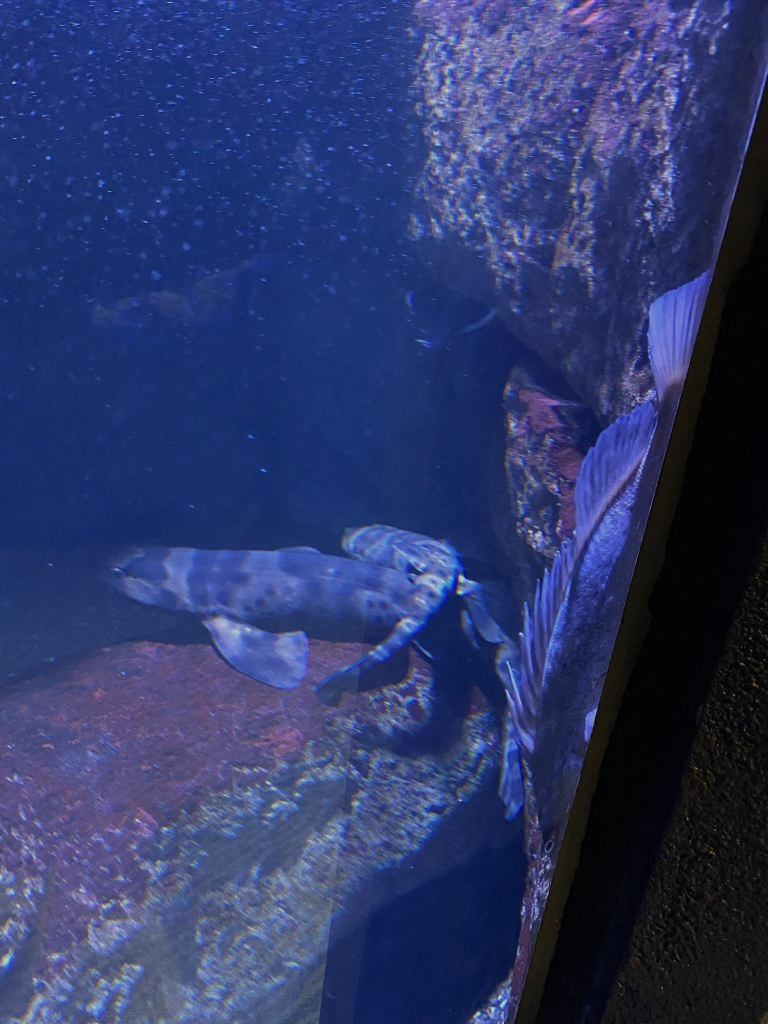fish: (508, 272, 716, 846)
shark: (95, 546, 459, 700), (342, 524, 526, 818)
